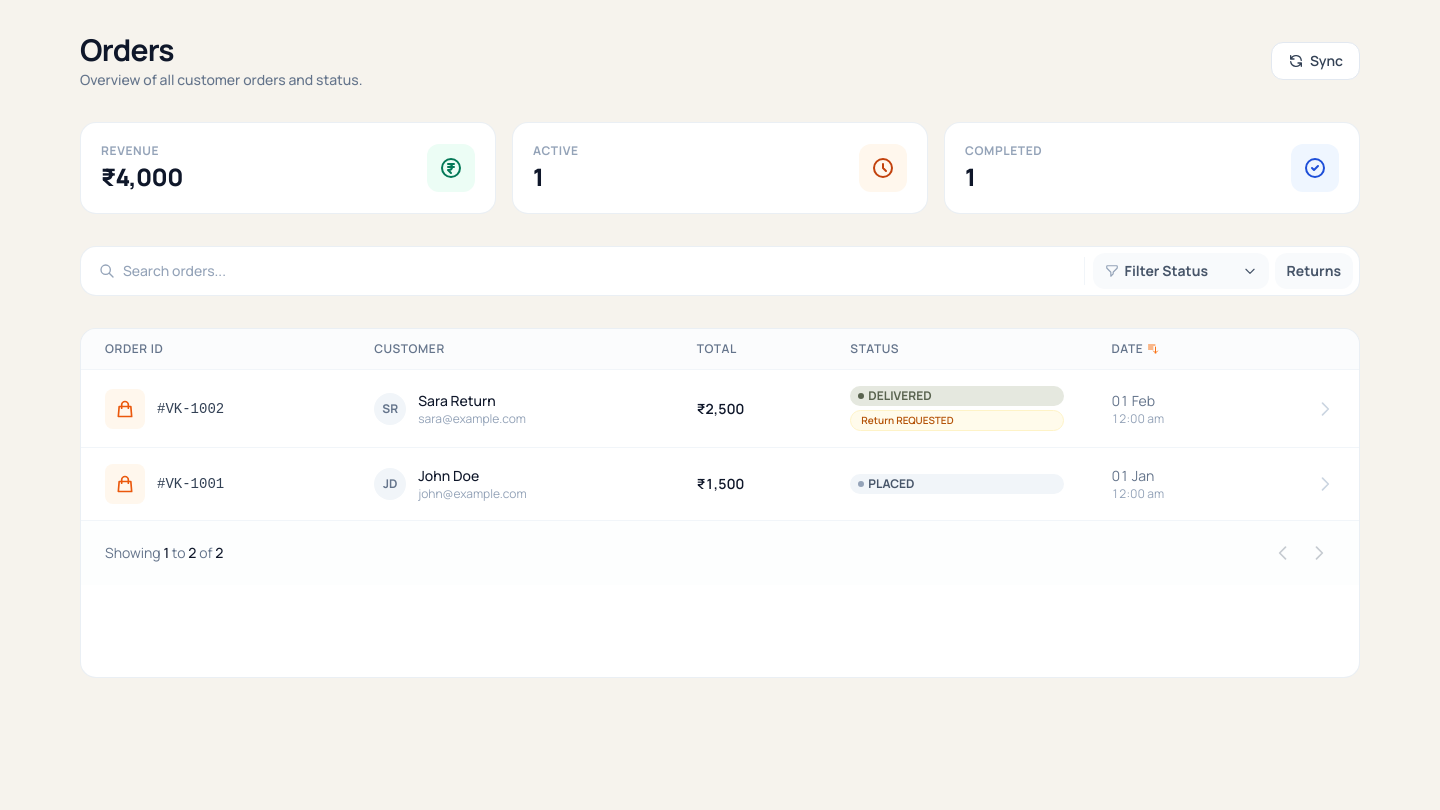
Test: AdminOrders Component › filters orders by stage from the dropdown
Click the button "Filter Status".
click(1181, 271)  # box [1093, 253, 1269, 289]
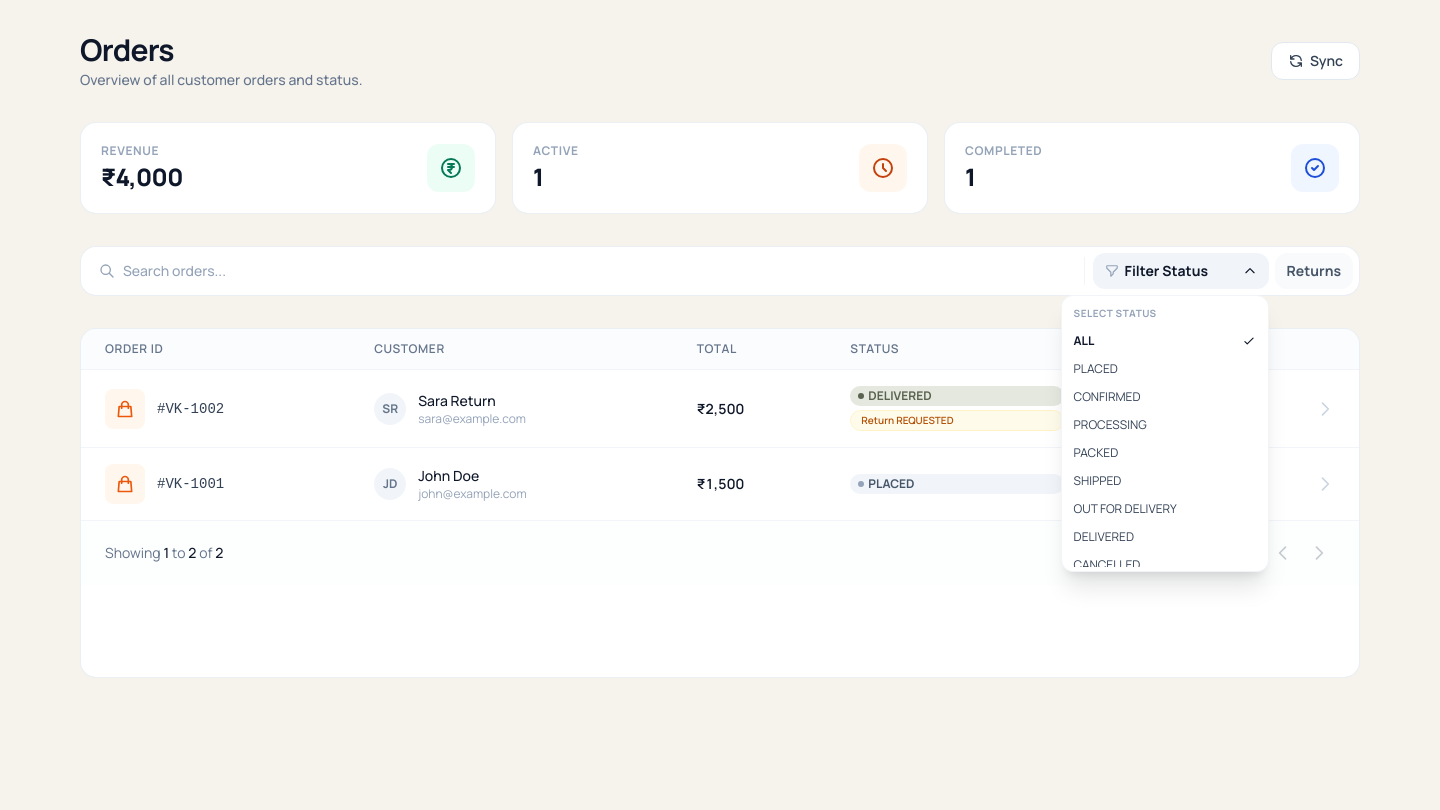
Click the button "DELIVERED".
click(1165, 537)  # box [1062, 523, 1268, 551]
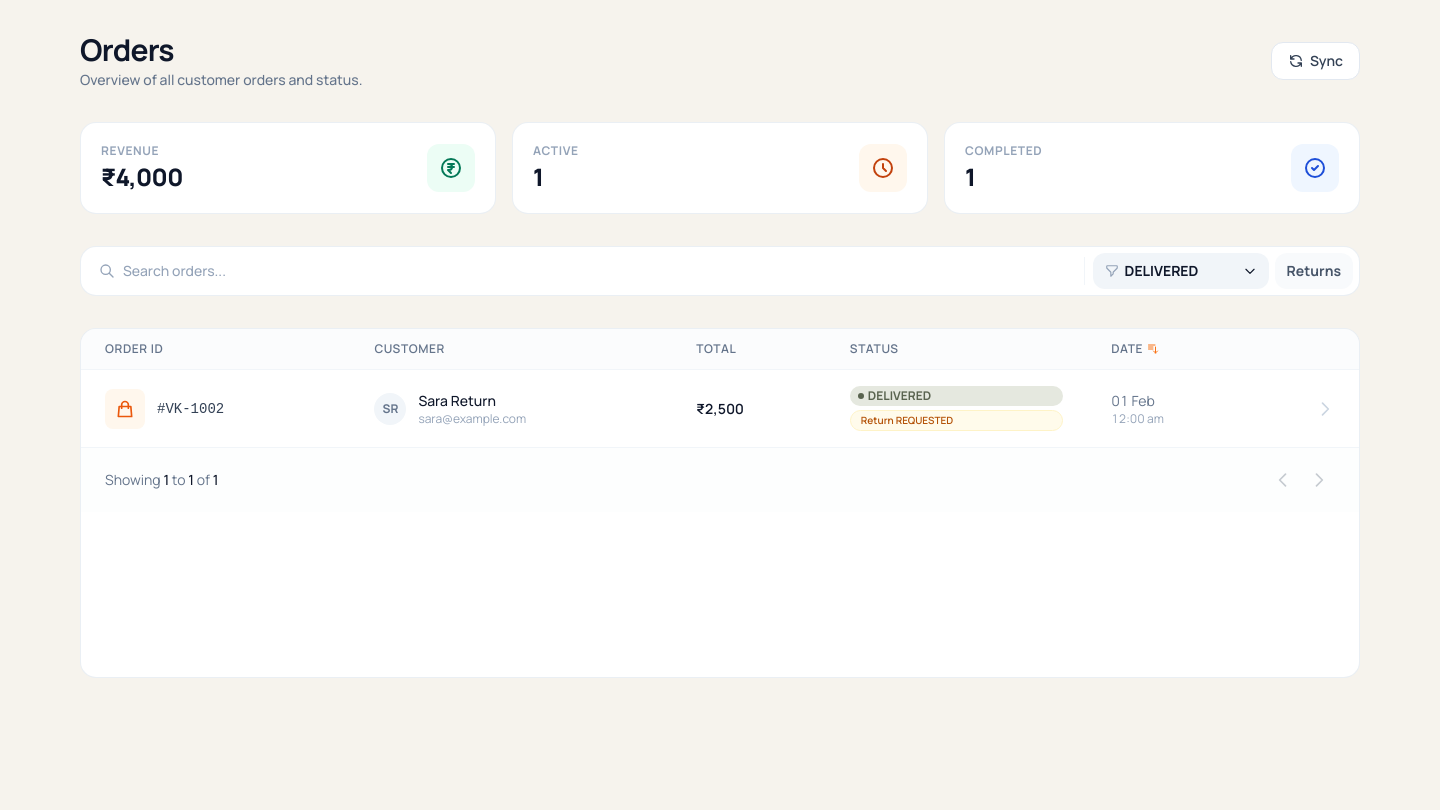
Expected: the text "Sara Return" is shown, [418, 390, 496, 410]
Result: the text "John Doe" is gone
